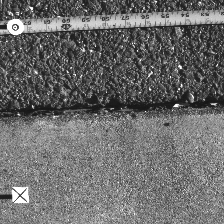circle: (6, 18, 24, 35)
crack: (1, 96, 223, 119)
square: (12, 187, 28, 203)
